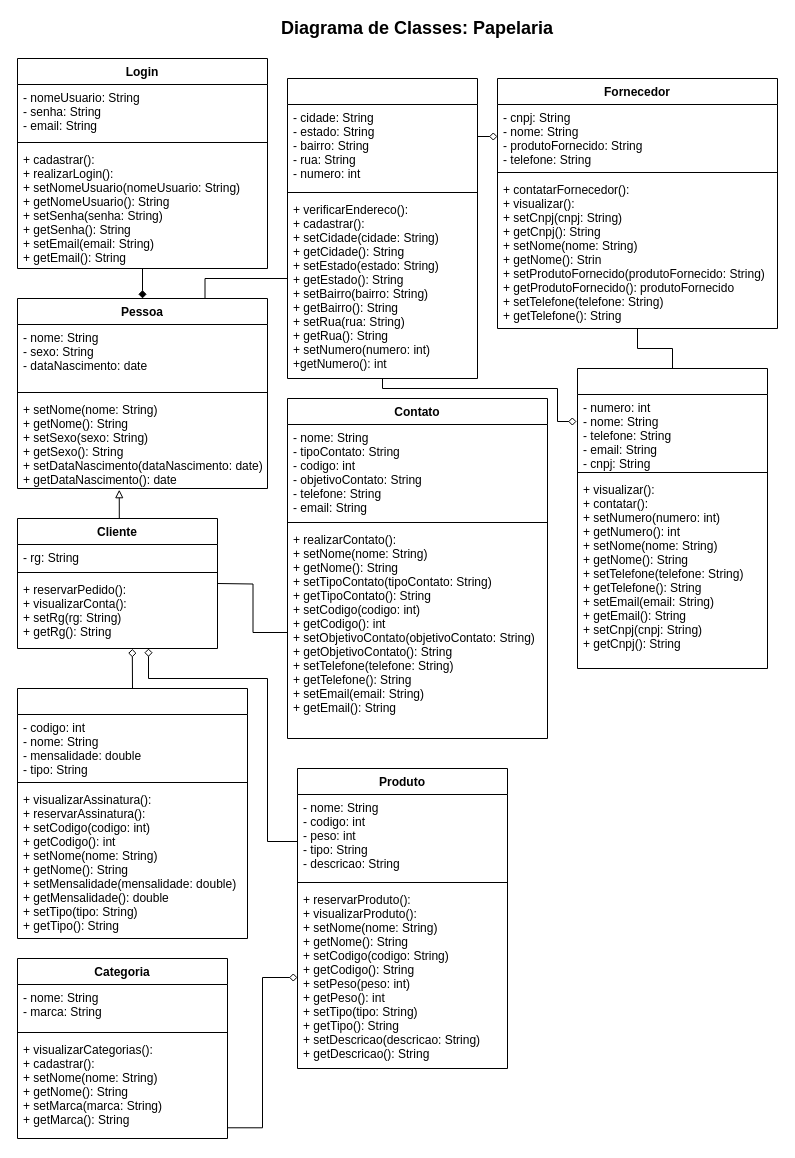
Image size: 795x1158. Some labels were removed from this diagram. The box of each missing label's shape, as (x1, y1, x2, y2) in pixels:
Endereço: (286, 78, 478, 378)
Filial: (576, 368, 768, 668)
PlanoAssinatura: (16, 688, 248, 938)
